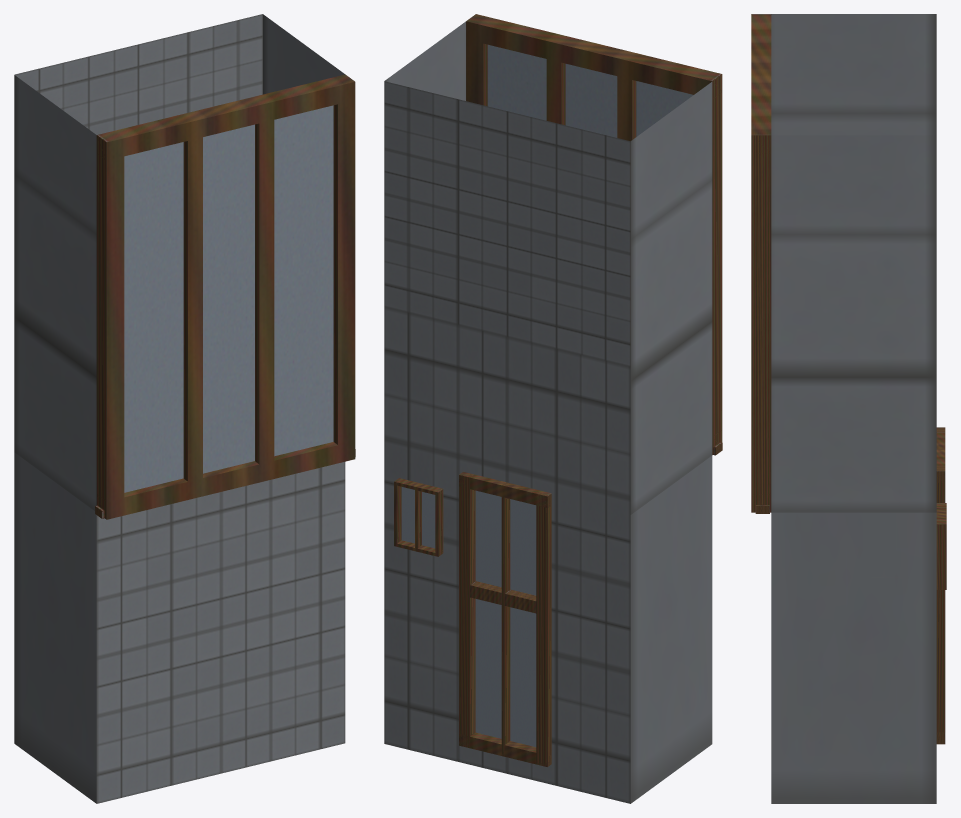
The model's file is balcony.obj.
3 views of the same model, side by side, from view 1: azimuth 30°, elevation 25°; view 2: azimuth 150°, elevation 25°; view 3: azimuth 270°, elevation 25° (orthographic).
Bounding box in the file's own units: 2.04 × 5.14 × 1.36.
